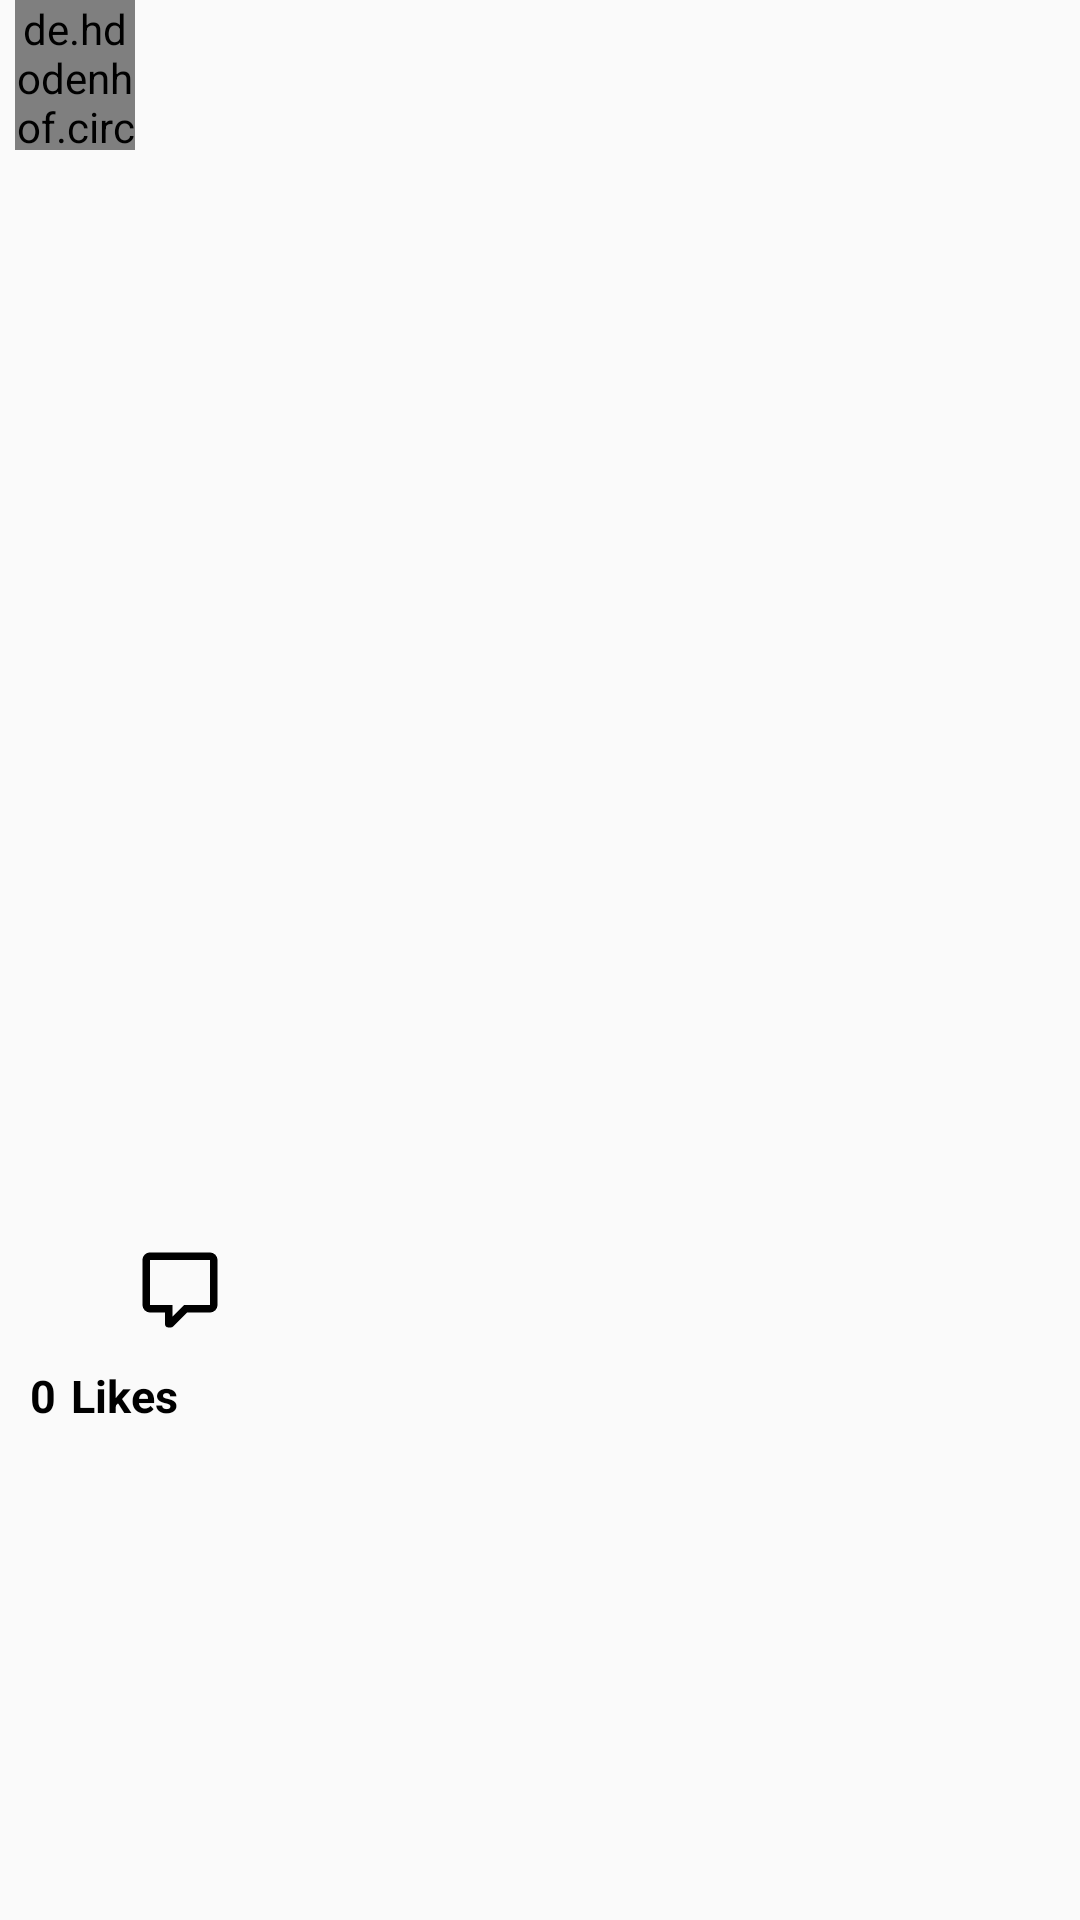

Icons on this 1080px×1920px Android screen, each with the point to tap as [x,y]:
comment: [180,1290]
